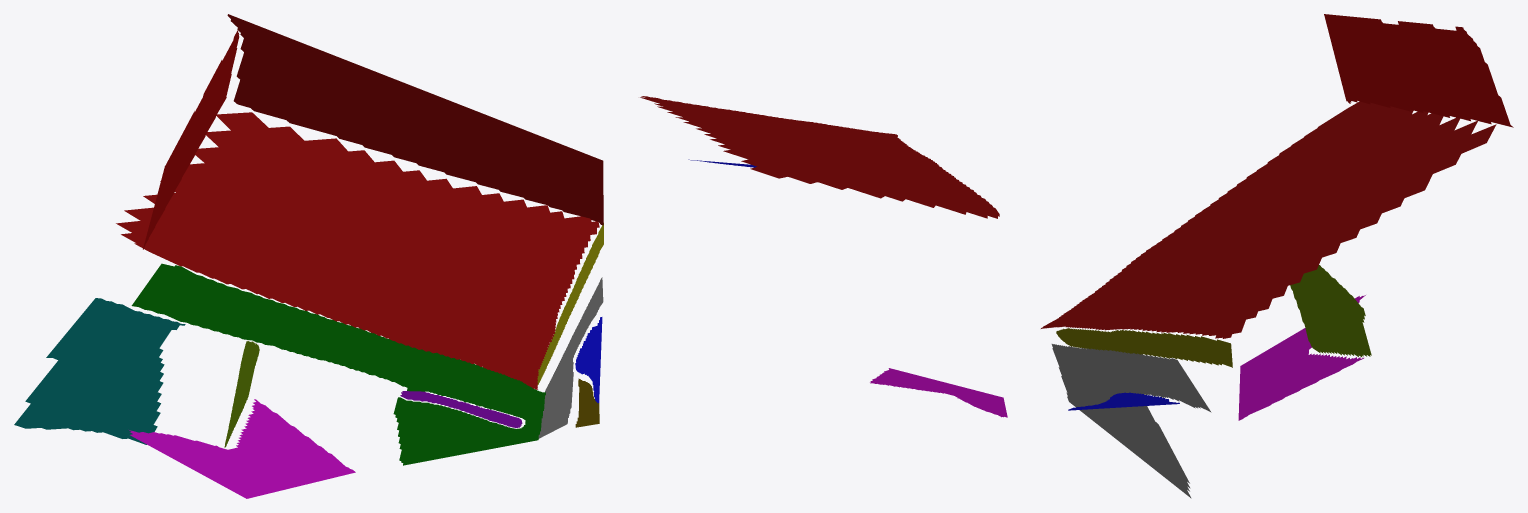
The model's file is 576_seg_predplane.glb.
3 renders of one model, left to right at view 1: azimuth 30°, elevation 25°; view 2: azimuth 150°, elevation 25°; view 3: azimuth 270°, elevation 25°, orthographic. The views are drawn at different scales.
Size of the model in its own units: 3.13 by 2.4 by 2.6.
